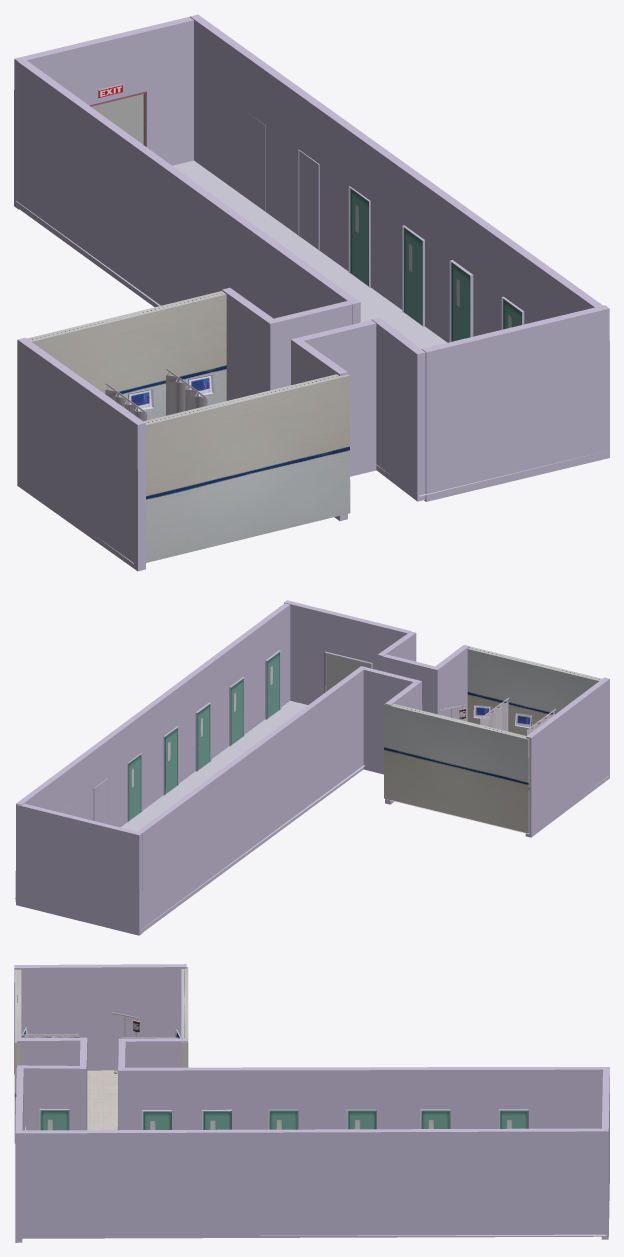
The model's file is 3D PLATFORMER FINal.fbx.
3 renders of one model, top to bottom at view 1: azimuth 30°, elevation 25°; view 2: azimuth 150°, elevation 25°; view 3: azimuth 270°, elevation 25°, orthographic. The views are drawn at different scales.
Parts seen in each view (by area): view 1: Cube__10_, pasted__pasted__pasted__pasted__Cube__7_, pasted__pasted__pasted__Cube__1_, Cube__9_, Cube__2_, pasted__pasted__pasted__pasted__Cube__1_, pasted__pasted__Cube__11_, pasted__pasted__Cube__8_, Plane_1, pasted__pasted__pasted__pasted__Cube__6_, pasted__pasted__Cube__4_, pasted__pasted__pasted__pCube16 (×2) (+6 smaller); view 2: pasted__pasted__pasted__pasted__Cube__7_, Cube__10_, pasted__pasted__pasted__pasted__Cube__1_, pasted__pasted__Cube__11_, Cube__2_, pasted__pasted__pasted__Cube__1_, Cube__9_, Plane_1, pasted__pasted__pasted__pCube16 (×3), pasted__Cube__5_, pasted__pasted__pasted__pasted__Cube__3_, pasted__pasted__pasted__pasted__Cube__6_ (+7 smaller); view 3: Cube__10_, pasted__pasted__pasted__pasted__Cube__7_, Cube__2_, pasted__pasted__Cube__8_, pasted__pasted__pCube16 (×3), Plane__1_, pasted__pCube16 (×3), pasted__pasted__Cube__4_, pasted__Cube__3_, Cube__9_, pasted__pasted__pasted__Cube__1_, pasted__pasted__pasted__pasted__Cube__1_ (+3 smaller).
Part boxes in pixels (<box>): Cube__10_: <box>190,14,602,342</box>; pasted__pasted__pasted__pasted__Cube__7_: <box>17,60,360,324</box>; pasted__pasted__pasted__Cube__1_: <box>144,374,350,562</box>; Cube__9_: <box>421,305,609,501</box>; Cube__2_: <box>17,337,145,571</box>; pasted__pasted__pasted__pasted__Cube__1_: <box>27,291,226,419</box>; pasted__pasted__Cube__11_: <box>14,16,193,209</box>; pasted__pasted__Cube__8_: <box>371,317,425,501</box>; Plane_1: <box>16,160,599,496</box>; pasted__pasted__pasted__pasted__Cube__6_: <box>291,320,376,476</box>; pasted__pasted__Cube__4_: <box>222,287,276,400</box>; pasted__pasted__pasted__pCube16 (×2): <box>402,225,473,341</box>; pasted__pasted__pasted__pasted__Cube__7_: <box>137,666,366,932</box>; Cube__10_: <box>15,603,290,901</box>; pasted__pasted__pasted__pasted__Cube__1_: <box>384,703,529,833</box>; pasted__pasted__Cube__11_: <box>16,803,142,935</box>; Cube__2_: <box>525,677,609,837</box>; pasted__pasted__pasted__Cube__1_: <box>467,646,602,735</box>; Cube__9_: <box>284,600,410,704</box>; Plane_1: <box>14,700,364,929</box>; pasted__pasted__pasted__pCube16 (×3): <box>163,677,244,795</box>; pasted__Cube__5_: <box>363,667,421,774</box>; pasted__pasted__pasted__pasted__Cube__3_: <box>438,646,469,721</box>; pasted__pasted__pasted__pasted__Cube__6_: <box>382,654,440,713</box>; Cube__10_: <box>22,1128,608,1238</box>; pasted__pasted__pasted__pasted__Cube__7_: <box>117,1067,602,1130</box>; Cube__2_: <box>14,964,186,1074</box>; pasted__pasted__Cube__8_: <box>17,1065,86,1130</box>; pasted__pasted__pCube16 (×3): <box>39,1108,528,1130</box>; Plane__1_: <box>87,1070,117,1130</box>; pasted__pCube16 (×3): <box>202,1109,450,1129</box>; pasted__pasted__Cube__4_: <box>119,1038,187,1067</box>; pasted__Cube__3_: <box>17,1040,80,1065</box>; Cube__9_: <box>15,1068,23,1242</box>; pasted__pasted__pasted__Cube__1_: <box>14,969,21,1143</box>; pasted__pasted__pasted__pasted__Cube__1_: <box>181,967,188,1067</box>.
Bounding box in the file's own units: 2833 × 851 × 4202.
